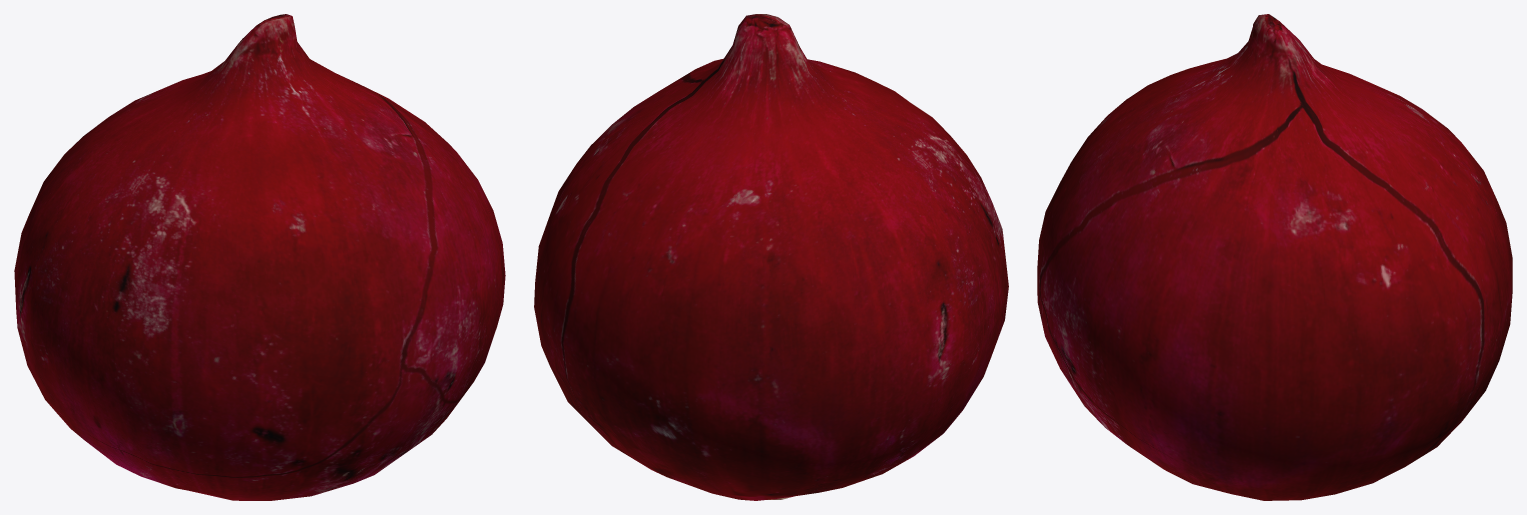
File: Onion.fbx
The picture shows the model from 3 angles, left to right: view 1: azimuth 30°, elevation 25°; view 2: azimuth 150°, elevation 25°; view 3: azimuth 270°, elevation 25°; orthographic projection. The views are drawn at different scales.
Visible parts, largest first — view 1: Onion; view 2: Onion; view 3: Onion.
Boxes of the visible parts, x1,y1,x2,y2 form: Onion: (14,14,505,500); Onion: (534,14,1008,500); Onion: (1037,14,1512,500).
Size of the model in its own units: 8.26 by 8.81 by 8.01.
